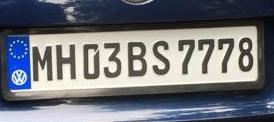0: (82, 43, 101, 79)
3: (102, 42, 123, 78)
7: (196, 38, 216, 75), (176, 39, 196, 75), (217, 38, 235, 73)
8: (238, 37, 255, 73)
B: (127, 41, 148, 78)
H: (55, 44, 77, 80)
M: (31, 45, 53, 82)
S: (151, 40, 171, 76)
